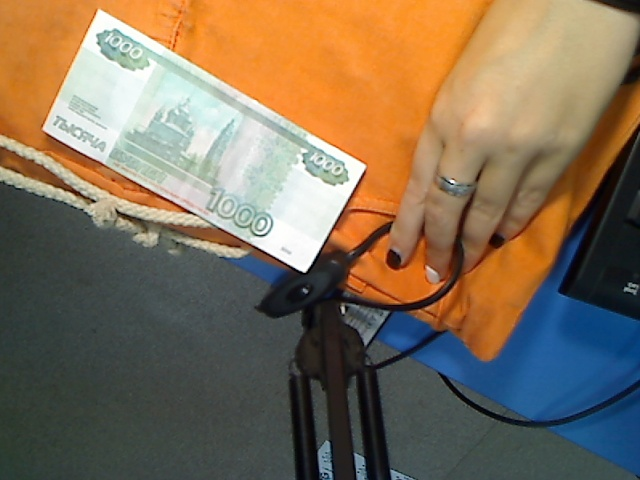banknotes: (41, 9, 370, 276)
